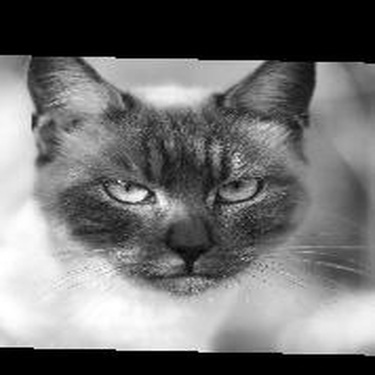cat: (26, 54, 359, 327)
